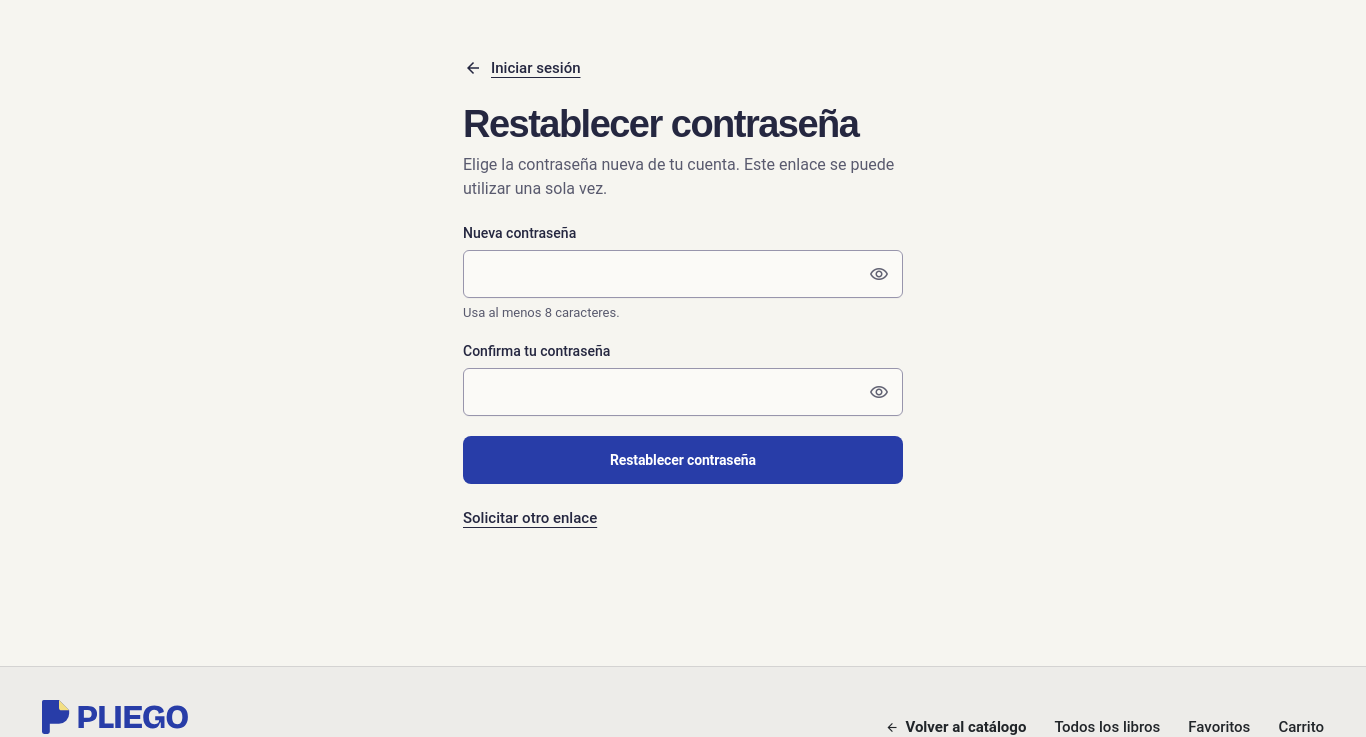
customer email actions › validates the reset password and confirmation before consuming the token
Step 1. Type "abc" into the password field labelled "Nueva contraseña" → (683, 274), box [463,250,903,298]
Step 2. Click the button "Restablecer contraseña" → (683, 460), box [463,436,903,484]
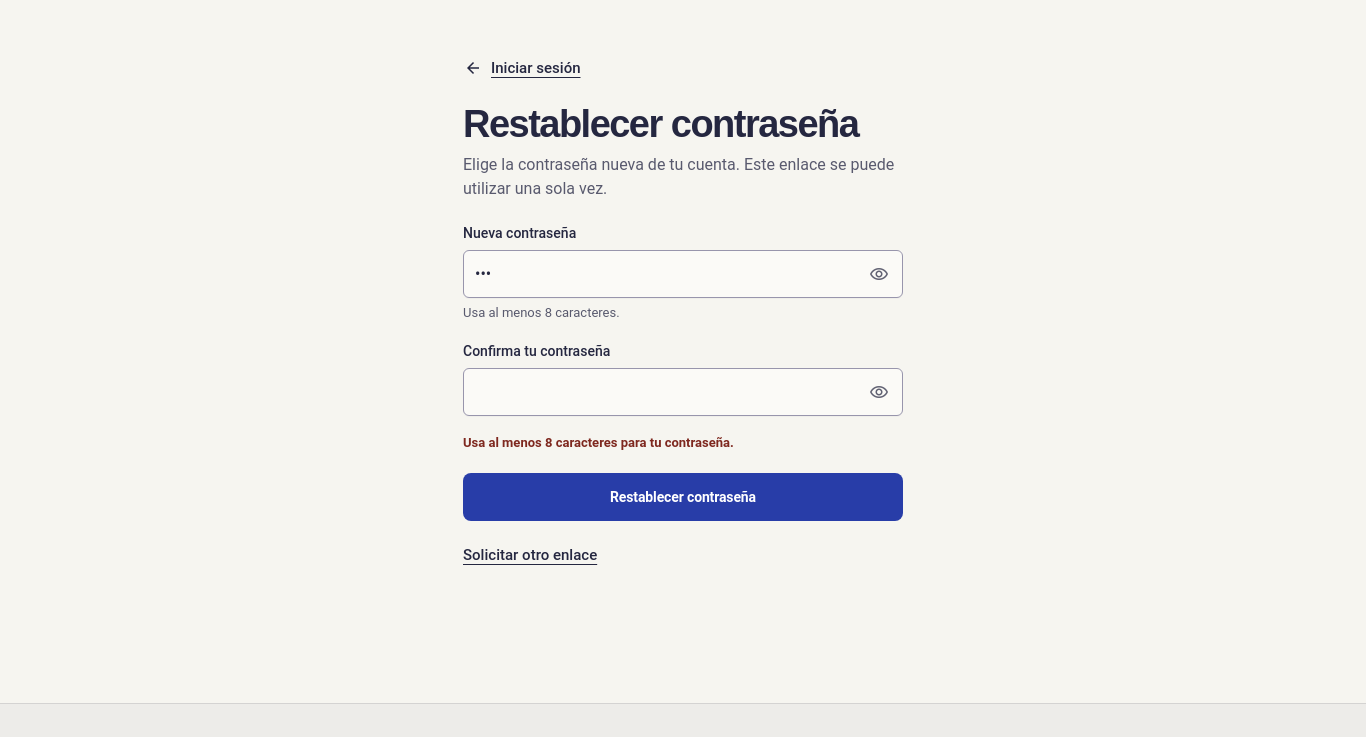
Check: the message shows "Usa al menos 8 caracteres", box [463,435,734,450]
Step 3. Type "segura123" into the password field labelled "Nueva contraseña" → (683, 274), box [463,250,903,298]
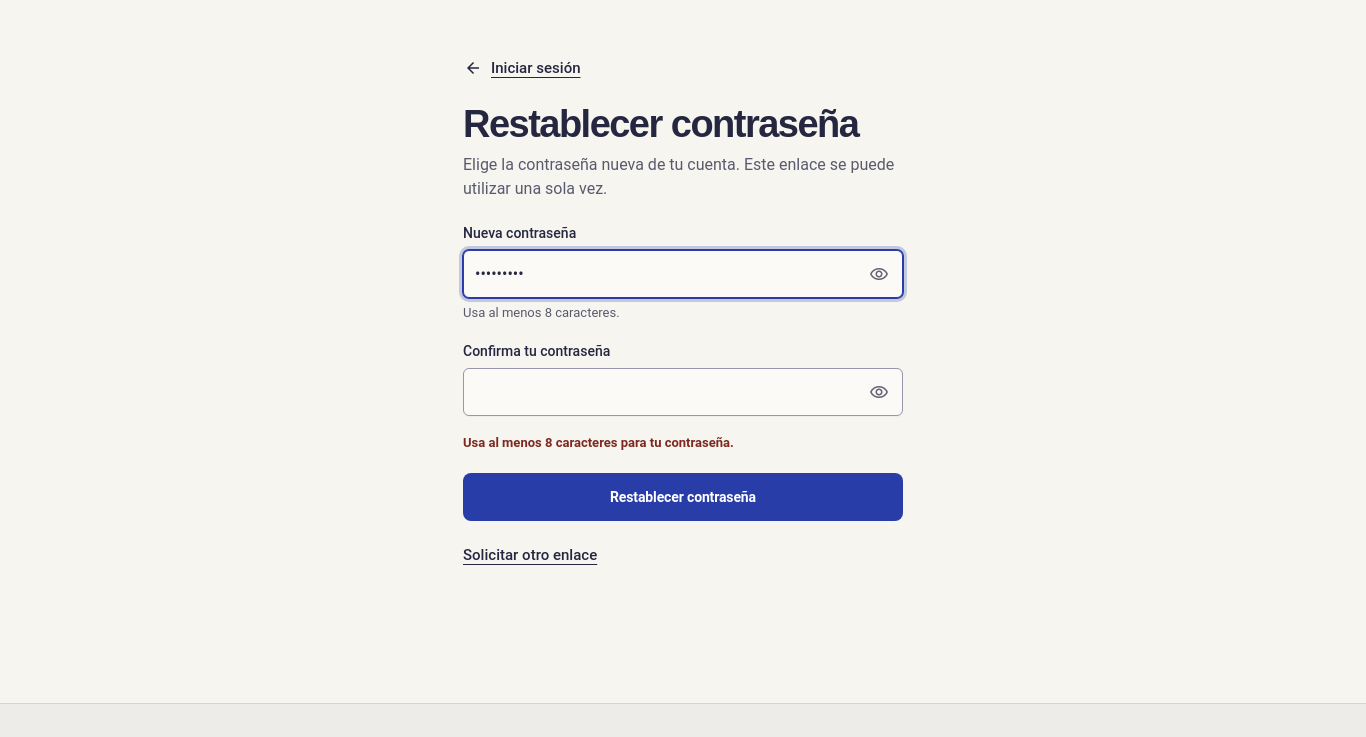
Step 4. Type "distinta123" into the password field labelled "Confirma tu contraseña" → (683, 392), box [463,368,903,416]
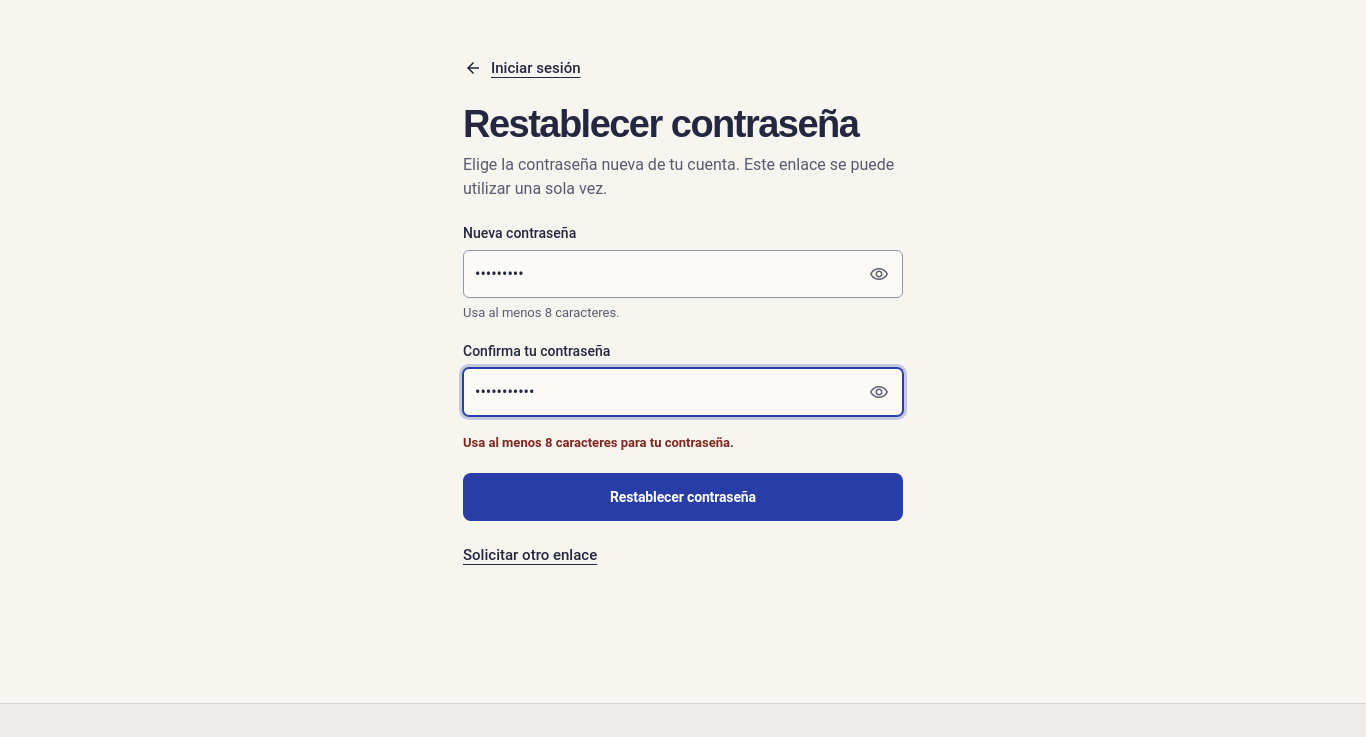
Step 5. Click the button "Restablecer contraseña" → (683, 497), box [463,473,903,521]
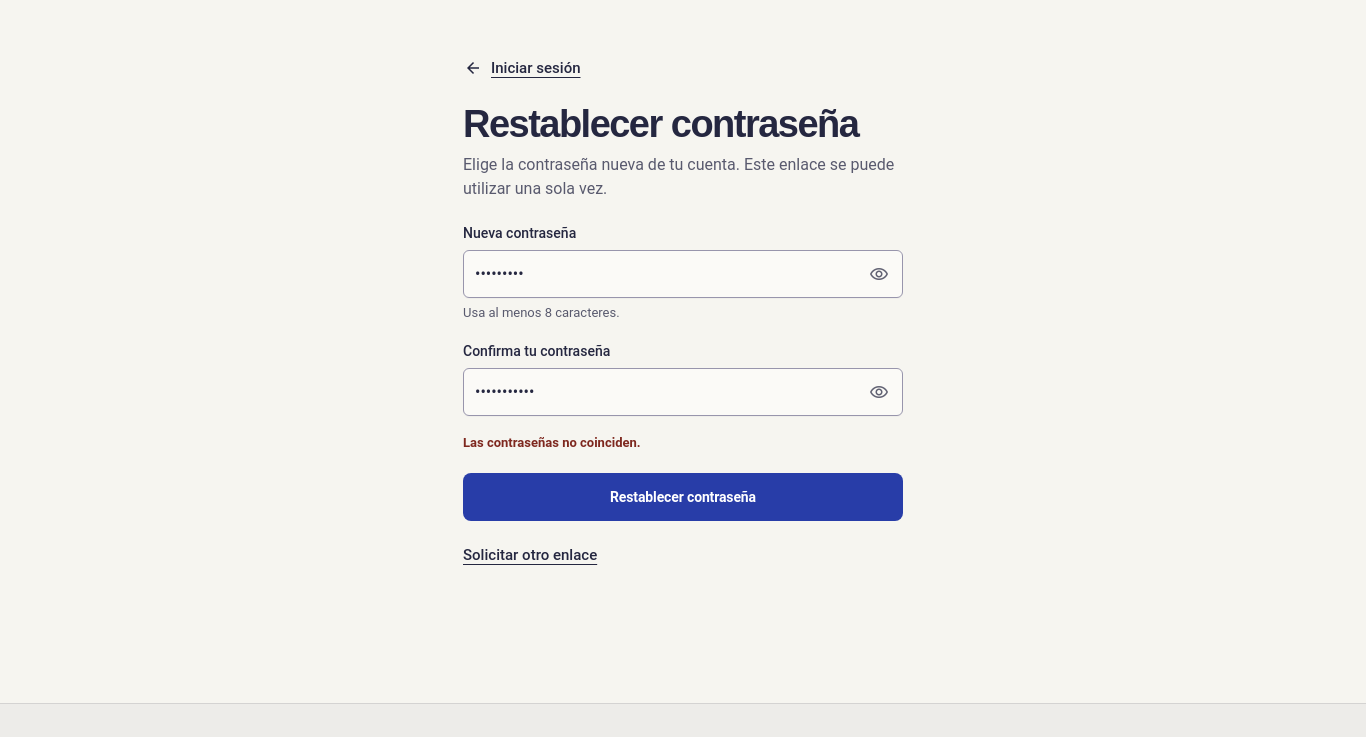
Check: the message shows "Las contraseñas no coinciden", box [463,435,641,450]
Step 6. Type "segura123" into the password field labelled "Confirma tu contraseña" → (683, 392), box [463,368,903,416]
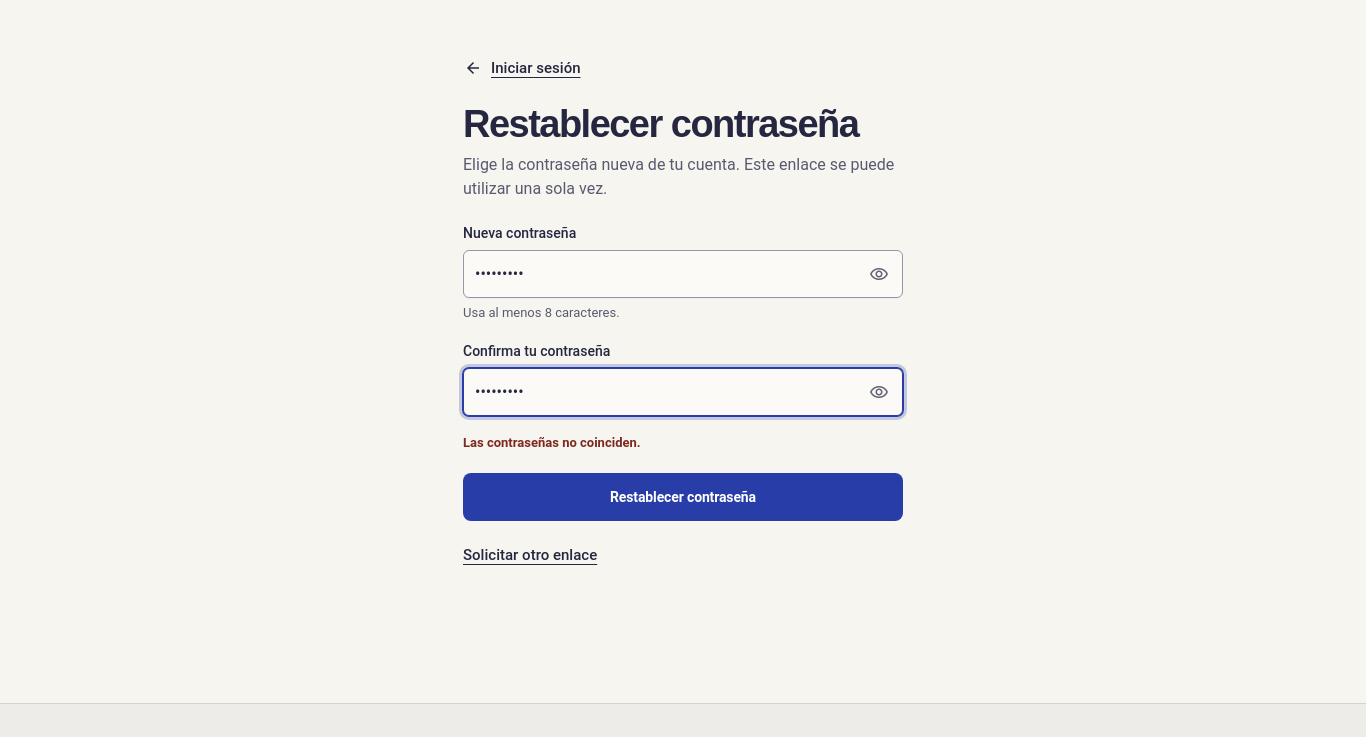
Step 7. Click the button "Restablecer contraseña" → (683, 497), box [463,473,903,521]
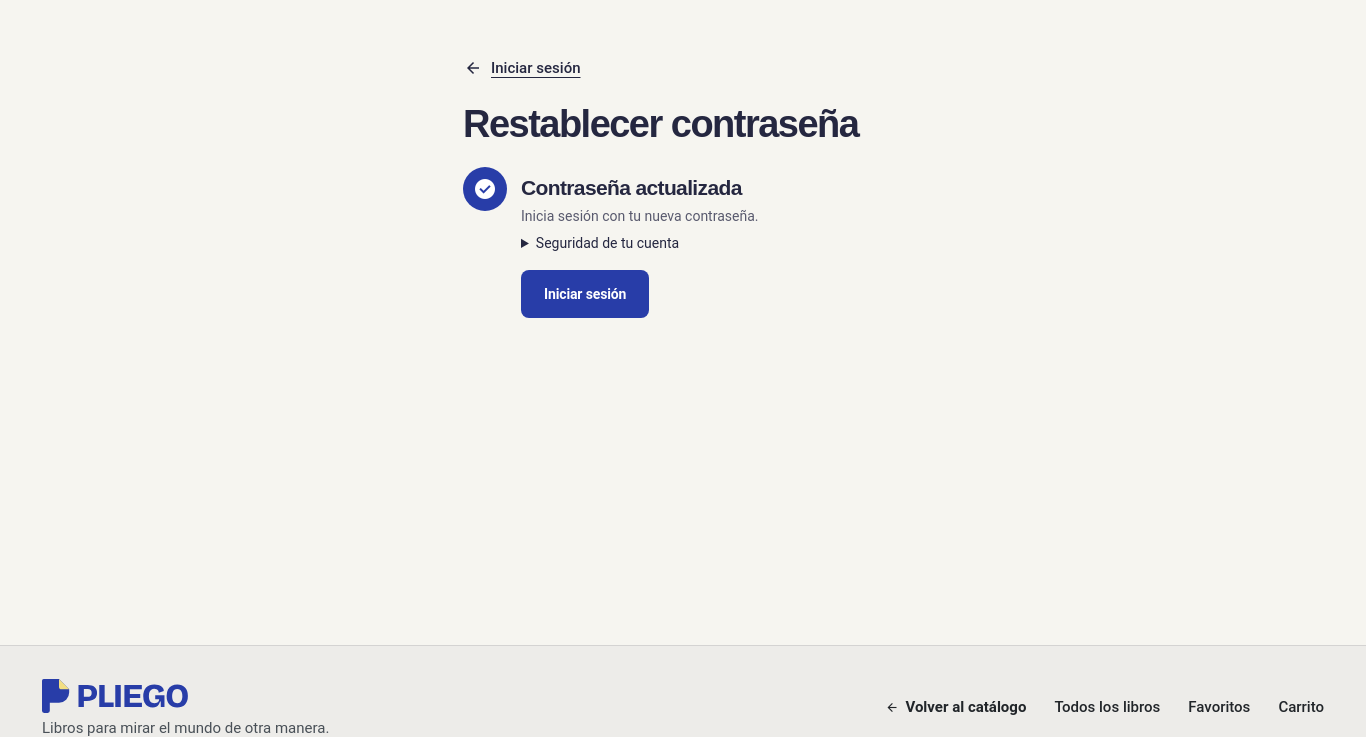
Check: the message reads "Inicia sesión con tu nueva contraseña.", box [521,208,758,224]
